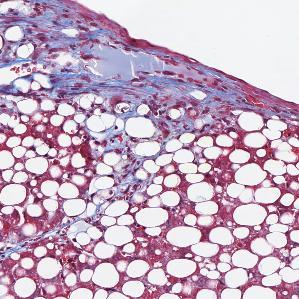fibrosis: (79, 41, 220, 112)
